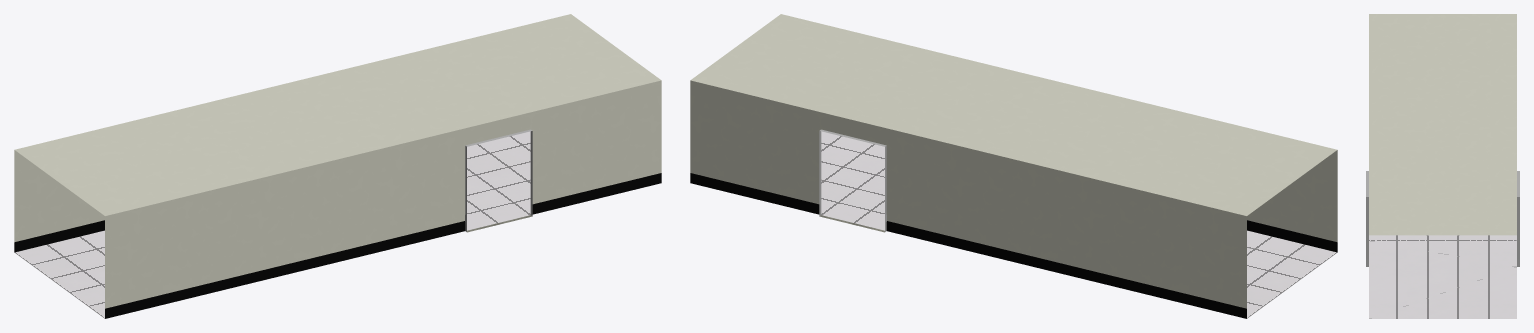
The model's file is Corridor.glb.
3 renders of one model, left to right at view 1: azimuth 30°, elevation 25°; view 2: azimuth 150°, elevation 25°; view 3: azimuth 270°, elevation 25°, orthographic. The views are drawn at different scales.
Visible parts, largest first — view 1: Corridor; view 2: Corridor; view 3: Corridor.
Boxes of the visible parts, bbox=[...] form: Corridor: bbox=[14, 14, 661, 318]; Corridor: bbox=[690, 14, 1337, 318]; Corridor: bbox=[1366, 14, 1519, 318].
Bounding box in the file's own units: 17 × 3 × 5.
Materials: 5 (3 with a texture image).
